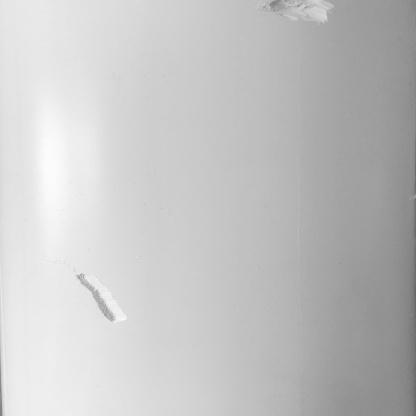sunshang: (71, 265, 128, 325), (261, 2, 349, 30)
